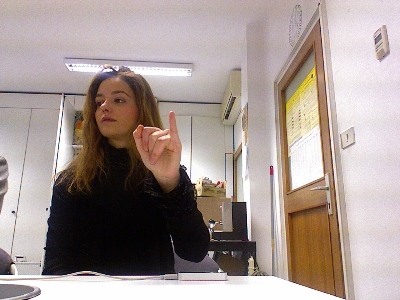小指: (131, 109, 183, 176)
